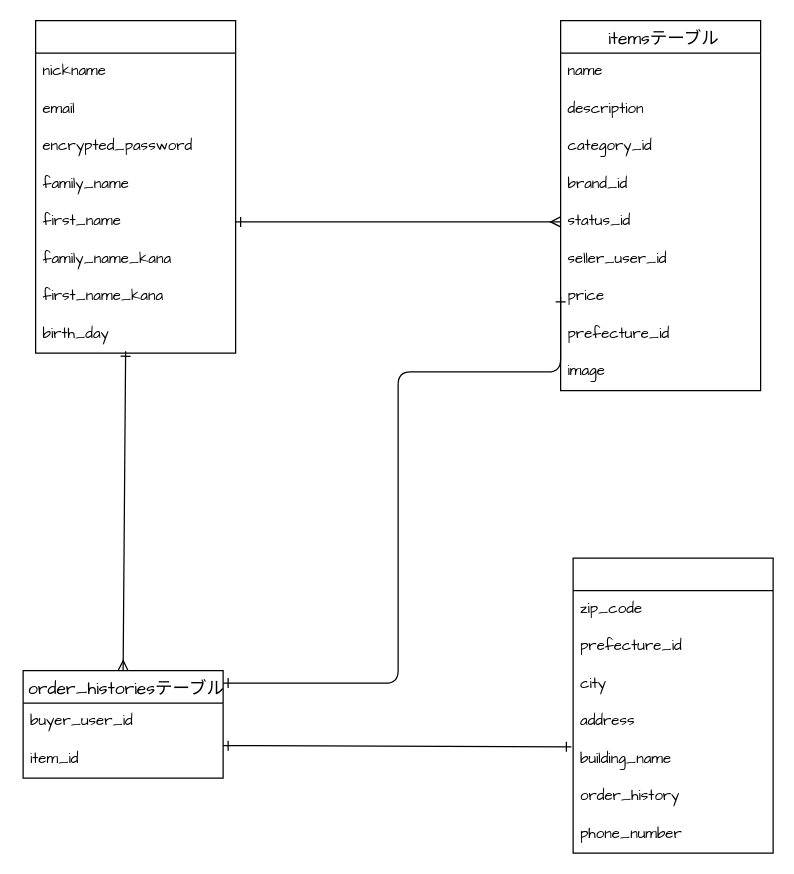
The diagram is 794 pixels wide and 874 high, and some of its shapes have lost their labels. Each missing label, with the box of its shape:
destinationsテーブル: (572, 557, 773, 853)
usersテーブル: (34, 19, 236, 353)
